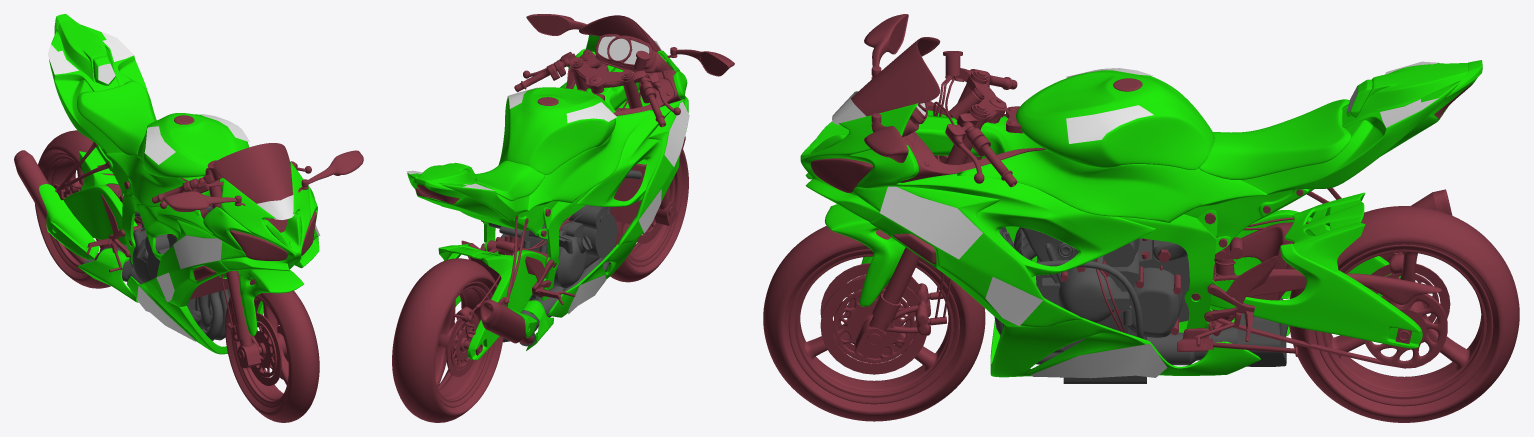
File: Kawasaki.fbx
3 renders of one model, left to right at view 1: azimuth 30°, elevation 25°; view 2: azimuth 150°, elevation 25°; view 3: azimuth 270°, elevation 25°, orthographic. The views are drawn at different scales.
Visible parts, largest first — view 1: Front Wheel, Tank, Front Panel, Seat, Windshield, Plane, Mid Side Panel, Front Side Panel, Rear Wheel Holder Right, Rear Wheel, Exhaust Cover, Front Rim (+29 smaller); view 2: Rear Wheel, Tank, Side Panel, Mid Side Panel, Rear Rim, Rear Wheel Holder Right, Front Side Panel, Side Mirror, Steering Wheel, Seat, Plate with holes, Front Wheel (+42 smaller); view 3: Rear Wheel, Tank, Front Wheel, Side Panel, Mid Side Panel, Rear Rim, Rear Wheel Holder Left, Front Side Panel, Under Panel, Front Rim, Seat, Plane (+40 smaller).
Boxes of the visible parts, x1,y1,x2,y2 form: Front Wheel: (225,279,319,422); Tank: (137,113,248,177); Front Panel: (220,162,319,271); Seat: (77,80,156,155); Windshield: (213,143,292,203); Plane: (49,24,148,153); Mid Side Panel: (136,185,317,260); Front Side Panel: (147,220,318,306); Rear Wheel Holder Right: (63,184,137,245); Rear Wheel: (35,130,142,288); Exhaust Cover: (39,184,99,259); Front Rim: (231,294,289,407); Rear Wheel: (392,258,503,422); Tank: (499,87,615,174); Side Panel: (498,87,653,212); Mid Side Panel: (560,48,687,206); Rear Rim: (435,281,494,407); Rear Wheel Holder Right: (467,250,546,360); Front Side Panel: (618,100,687,245); Side Mirror: (526,14,734,76); Steering Wheel: (514,52,680,127); Seat: (475,160,544,200); Plate with holes: (482,188,592,300); Front Wheel: (609,149,688,282); Rear Wheel: (1289,206,1519,422); Tank: (1016,70,1214,169); Front Wheel: (763,226,985,421); Side Panel: (957,149,1268,222); Mid Side Panel: (846,145,1155,276); Rear Rim: (1315,244,1493,406); Rear Wheel Holder Left: (1210,244,1422,348); Front Side Panel: (852,157,1082,327); Under Panel: (990,256,1260,377); Front Rim: (788,249,959,404); Seat: (1199,99,1351,179); Plane: (1241,63,1461,194).
Size of the model in its own units: 198 by 252 by 461.
